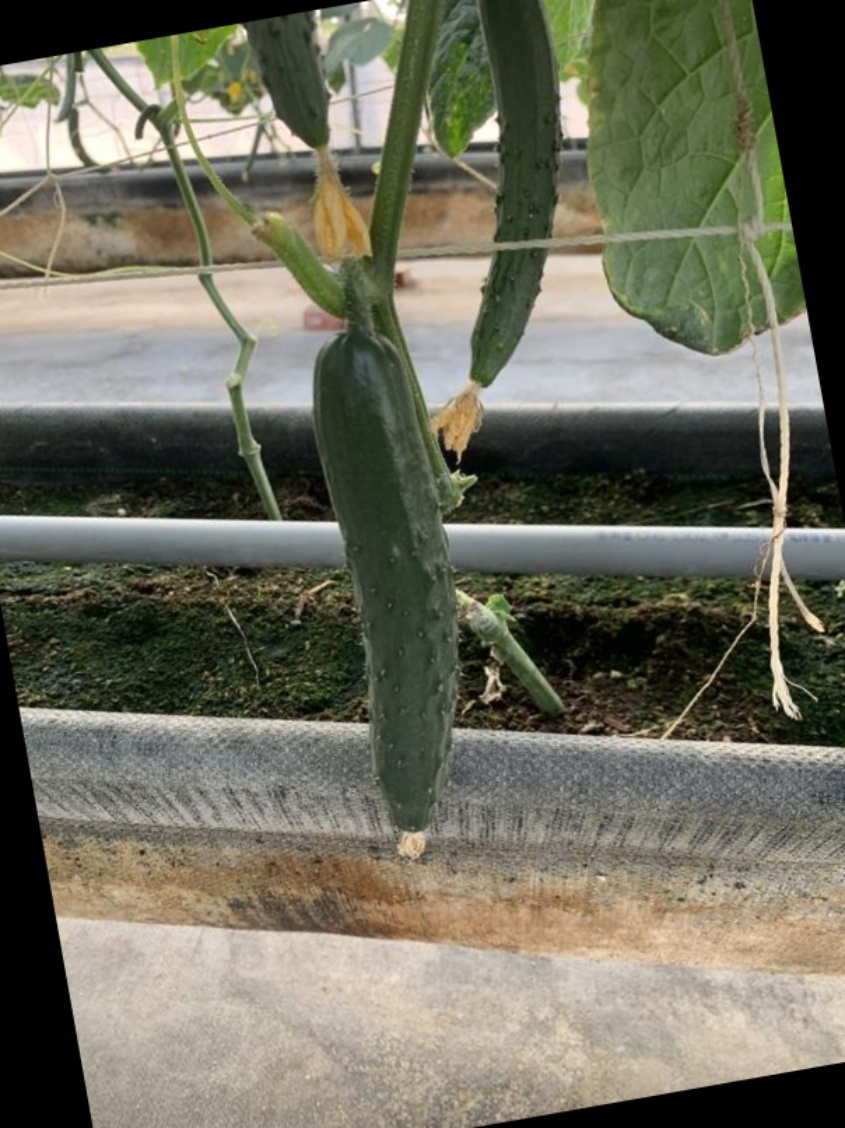mature: (306, 325, 452, 848)
